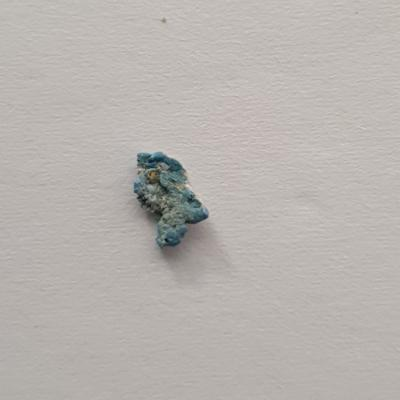plastic: (129, 146, 214, 256)
